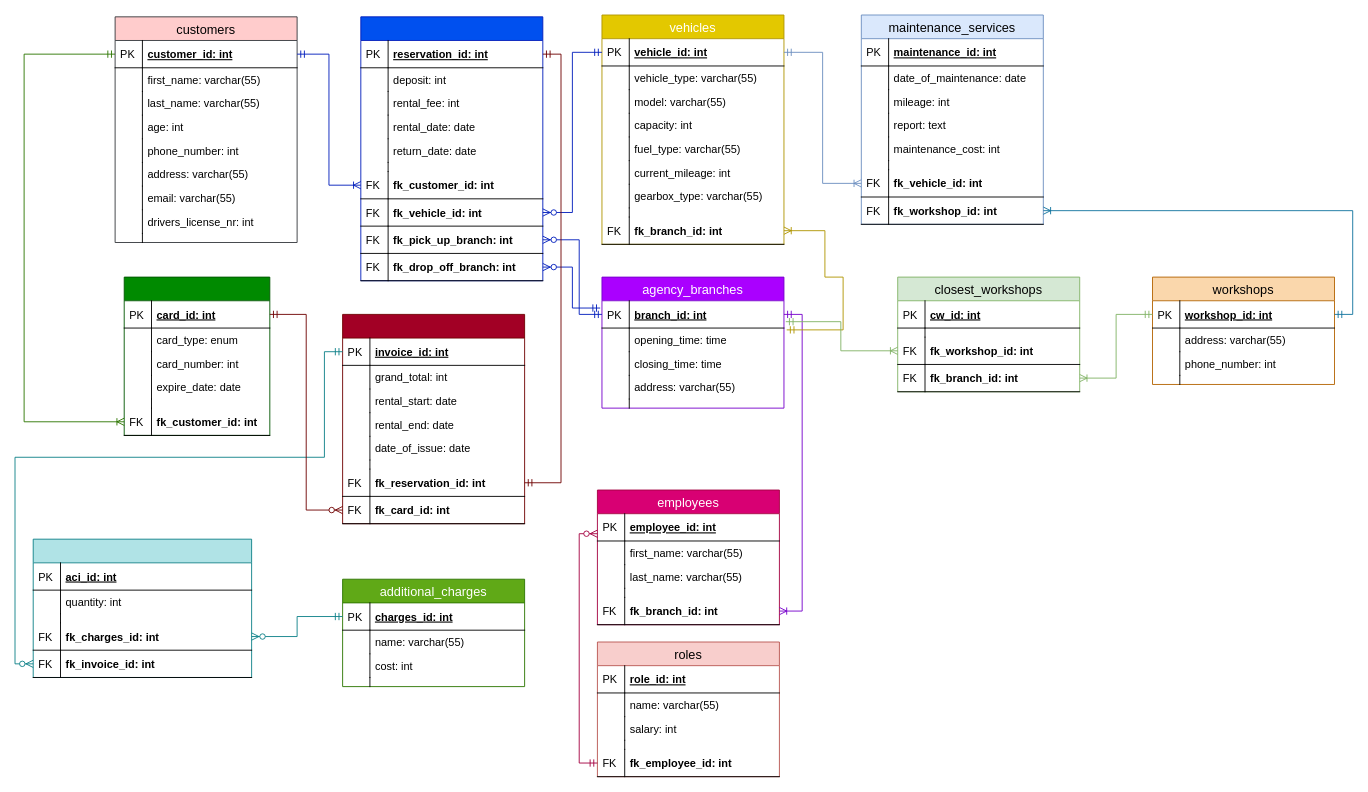
Some shapes in this 1368 by 792 pixel diagram are drawn without their labels. The box of each missing label's shape, as (x1, y1, x2, y2) in pixels:
additional_charges_to_invoices: (32, 538, 252, 677)
credit_cards: (123, 276, 270, 435)
invoices: (342, 313, 525, 524)
reservations: (360, 16, 543, 281)
